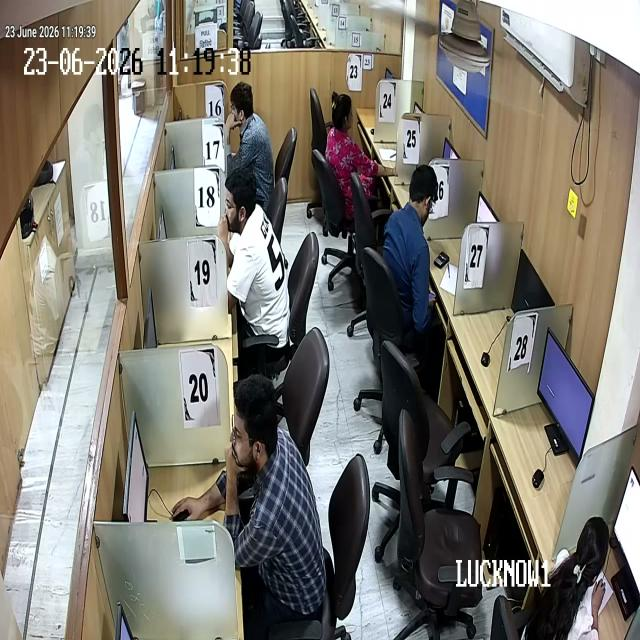phone: (430, 284, 438, 320)
